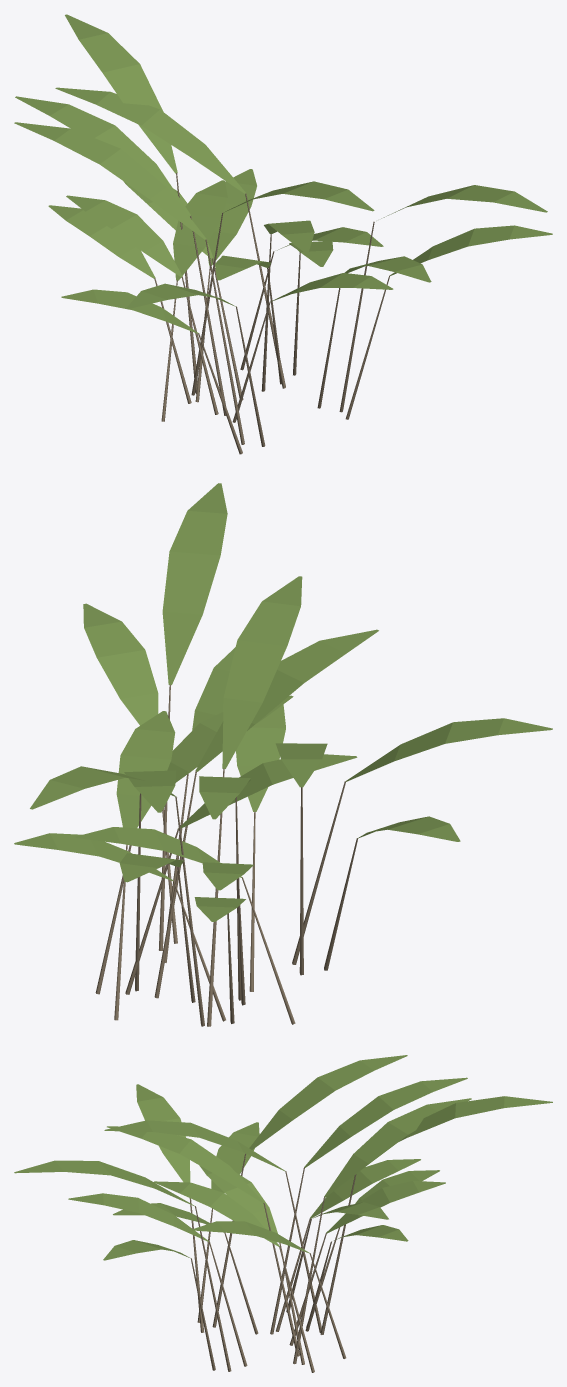
The model's file is shrub_lod0.glb.
3 renders of one model, top to bottom at view 1: azimuth 30°, elevation 25°; view 2: azimuth 150°, elevation 25°; view 3: azimuth 270°, elevation 25°, orthographic. The views are drawn at different scales.
Visible parts, largest first — view 1: Leaves, Bark; view 2: Leaves, Bark; view 3: Leaves, Bark.
Boxes of the visible parts, x1,y1,x2,y2 form: Leaves: [14, 14, 552, 333]; Bark: [154, 173, 389, 454]; Leaves: [14, 483, 552, 921]; Bark: [95, 684, 357, 1026]; Leaves: [14, 1055, 552, 1260]; Bark: [189, 1153, 356, 1372].
Bounding box in the file's own units: 1.42 × 0.9257 × 1.93.
